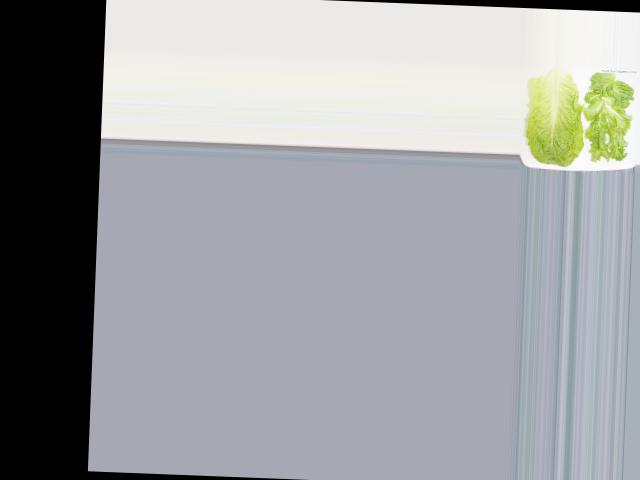lettuce: (583, 75, 640, 164)
